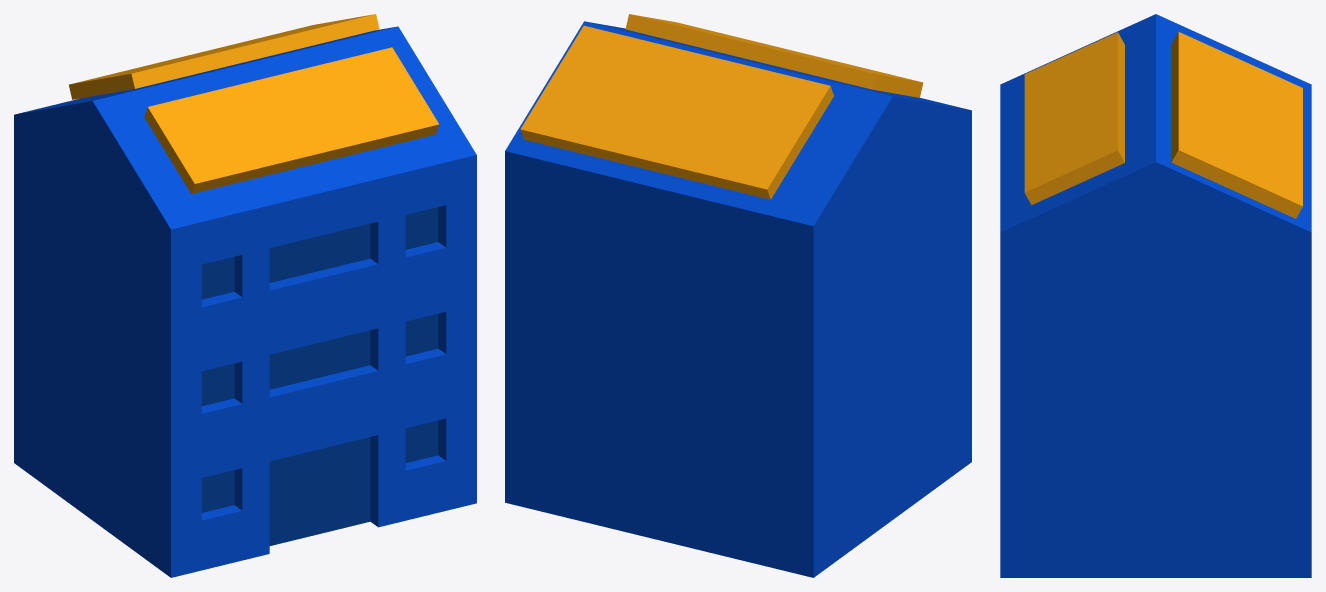
The model's file is binaacilacak5.gltf.
The picture shows the model from 3 angles, left to right: view 1: azimuth 30°, elevation 25°; view 2: azimuth 150°, elevation 25°; view 3: azimuth 270°, elevation 25°; orthographic projection.
Parts seen in each view (by area): view 1: Building_056.023, Building_056_RoofCap_0.003, Building_056.024, Building_056.025, Building_056_RoofCap_1.003; view 2: Building_056.023, Building_056_RoofCap_1.003, Building_056_RoofCap_0.003; view 3: Building_056.023, Building_056_RoofCap_1.003, Building_056_RoofCap_0.003.
Part boxes in pixels (<box>): Building_056.023: <box>14,26,476,577</box>; Building_056_RoofCap_0.003: <box>144,47,439,193</box>; Building_056.024: <box>201,207,438,512</box>; Building_056.025: <box>269,437,370,545</box>; Building_056_RoofCap_1.003: <box>69,14,379,99</box>; Building_056.023: <box>505,21,971,577</box>; Building_056_RoofCap_1.003: <box>520,25,833,199</box>; Building_056_RoofCap_0.003: <box>625,14,923,97</box>; Building_056.023: <box>1000,14,1311,577</box>; Building_056_RoofCap_1.003: <box>1171,31,1302,218</box>; Building_056_RoofCap_0.003: <box>1024,32,1124,205</box>.
Size of the model in its own units: 0.0489 by 0.0652 by 0.0435.
